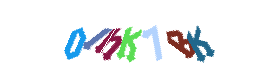0: (35, 0, 115, 80)
7: (102, 0, 182, 80)
B: (106, 0, 186, 80)
H: (86, 0, 166, 80)
I: (83, 0, 163, 80)
K: (88, 0, 168, 80), (159, 0, 239, 80)
